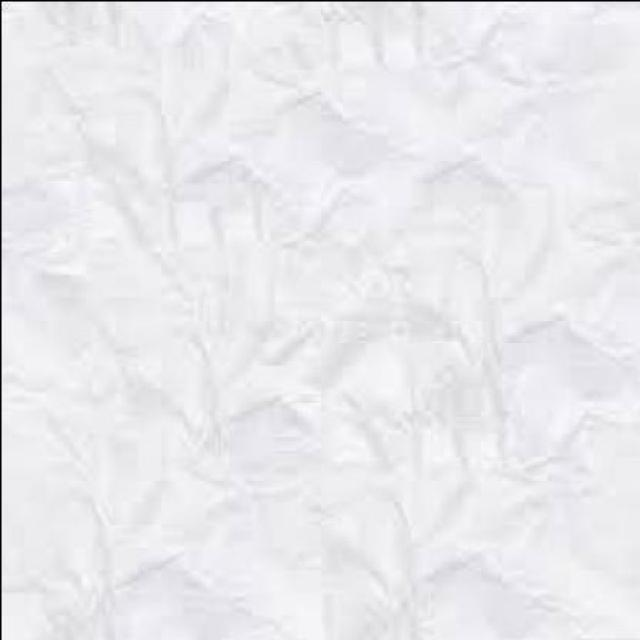PAPER: (1, 1, 637, 637)
